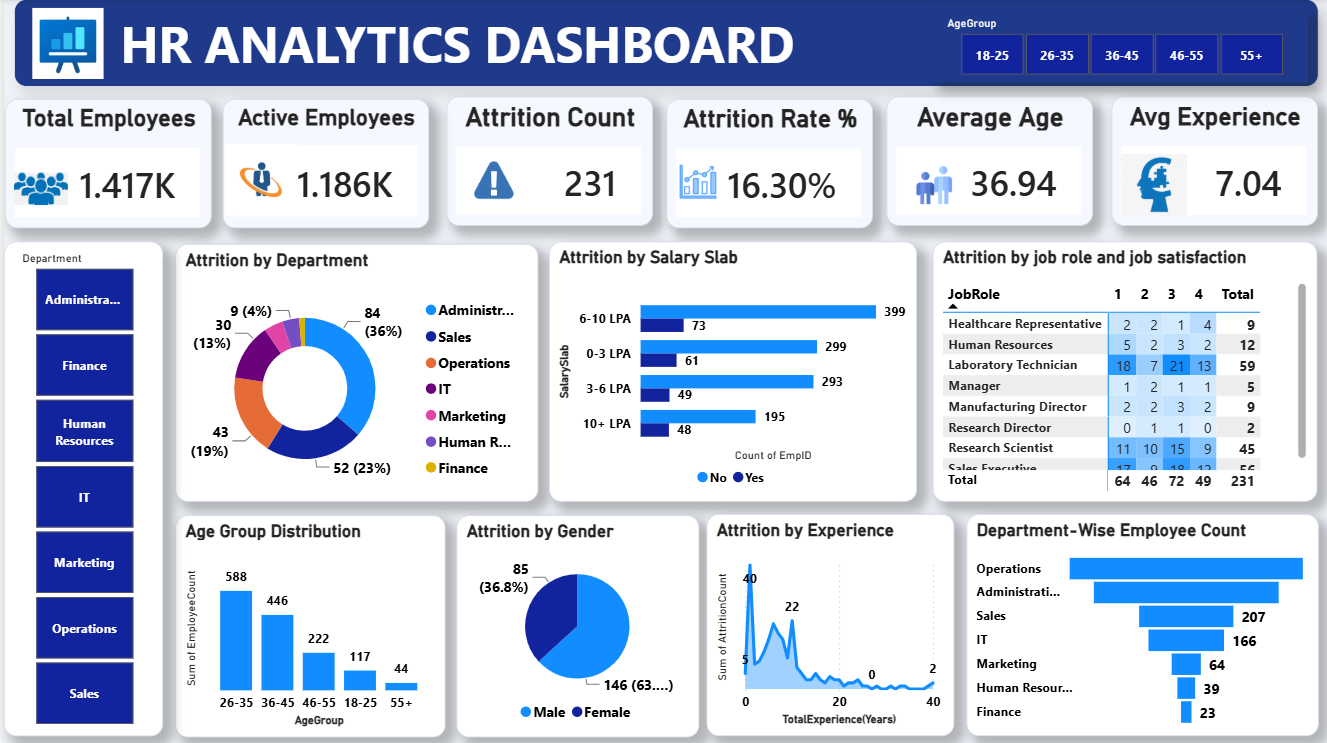

Layout of this report page (visuals, bound fields, positions):
{"tool":"powerbi","page":{"name":"Page 1","canvas":[1280,720],"ordinal":0},"visuals":[{"type":"textbox","box":[10,0,1259,85],"z":0},{"type":"image","box":[22,8.2,79.6,68.6],"z":1000},{"type":"cardVisual","title":"Total Employees","fields":{"Data":["CountNonNull(HR_Analytics-4.EmpID)"]},"box":[1.4,96.1,199,124.9],"z":2000},{"type":"cardVisual","title":"Attrition Count","fields":{"Data":["Sum(HR_Analytics-4.AttritionCount)"]},"box":[426.8,94.7,199,124.9],"z":3000},{"type":"cardVisual","title":"Attrition Rate %","fields":{"Data":["HR_Analytics-4.Attrition Rate %"]},"box":[639.5,96.1,199,124.9],"z":4000},{"type":"cardVisual","title":"Average Age","fields":{"Data":["Avg(HR_Analytics-4.Age)"]},"box":[852.1,94.7,199,124.9],"z":5000},{"type":"cardVisual","title":"Avg Experience","fields":{"Data":["Avg(HR_Analytics-4.YearsatCompany)"]},"box":[1069,94.7,199,124.9],"z":6000},{"type":"cardVisual","title":"Active Employees","fields":{"Data":["CountNonNull(HR_Analytics-4.EmployeeCount)"]},"box":[211.3,94.7,199,124.9],"z":7000},{"type":"image","box":[211.3,140,74.1,68.6],"z":8000},{"type":"image","box":[9.6,157.8,52.1,50.8],"z":9000},{"type":"image","box":[450.1,146.8,45.3,54.9],"z":10000},{"type":"image","box":[879.6,150.9,37,57.6],"z":11000},{"type":"image","box":[651.8,150.9,37,50.8],"z":12000},{"type":"image","box":[1069,149.6,82.3,59],"z":13000},{"type":"donutChart","title":"Attrition by Department","fields":{"Category":["HR_Analytics-4.Department"],"Y":["Sum(HR_Analytics-4.AttritionCount)"]},"box":[165.3,236.5,350,249],"z":14000},{"type":"clusteredBarChart","title":"Attrition by Salary Slab","fields":{"Category":["HR_Analytics-4.SalarySlab"],"Y":["CountNonNull(HR_Analytics-4.EmpID)"],"Series":["HR_Analytics-4.Attrition"]},"box":[526,234,355,251],"z":15000},{"type":"pivotTable","title":"Attrition by job role and job satisfaction","fields":{"Rows":["HR_Analytics-4.JobRole"],"Values":["Sum(HR_Analytics-4.AttritionCount)"],"Columns":["HR_Analytics-4.JobSatisfaction"]},"box":[896.4,234,371,251],"z":16000},{"type":"columnChart","title":"Age Group Distribution","fields":{"Category":["HR_Analytics-4.AgeGroup"],"Y":["Sum(HR_Analytics-4.EmployeeCount)"]},"box":[165.3,498.3,261,214],"z":17000},{"type":"pieChart","title":"Attrition by Gender","fields":{"Category":["HR_Analytics-4.Gender"],"Y":["Sum(HR_Analytics-4.AttritionCount)"]},"box":[436.7,498.3,234,214],"z":18000},{"type":"areaChart","title":"Attrition by Experience","fields":{"Category":["HR_Analytics-4.TotalExperience(Years)"],"Y":["Sum(HR_Analytics-4.AttritionCount)"]},"box":[678,497.1,239,214],"z":19000},{"type":"funnel","title":"Department-Wise Employee Count","fields":{"Category":["HR_Analytics-4.Department"],"Y":["CountNonNull(HR_Analytics-4.EmpID)"]},"box":[929,497.1,340,214],"z":20000},{"type":"slicer","fields":{"Values":["HR_Analytics-4.Department"]},"box":[0,234,153.2,477.8],"z":21000},{"type":"slicer","fields":{"Values":["HR_Analytics-4.AgeGroup"]},"box":[898,12,361,68],"z":22000}]}

Visuals, with their boxes in screenshot pixels (x1, y1, x2, y2), scaled from the page's 1280x720 canvas onto the 1327x743 screenshot:
textbox: (10,0,1316,88)
image: (23,8,105,79)
"Total Employees" cardVisual: (1,99,208,228)
"Attrition Count" cardVisual: (442,98,649,227)
"Attrition Rate %" cardVisual: (663,99,869,228)
"Average Age" cardVisual: (883,98,1090,227)
"Avg Experience" cardVisual: (1108,98,1315,227)
"Active Employees" cardVisual: (219,98,425,227)
image: (219,144,296,215)
image: (10,163,64,215)
image: (467,151,514,208)
image: (912,156,950,215)
image: (676,156,714,208)
image: (1108,154,1194,215)
"Attrition by Department" donutChart: (171,244,534,501)
"Attrition by Salary Slab" clusteredBarChart: (545,241,913,500)
"Attrition by job role and job satisfaction" pivotTable: (929,241,1314,500)
"Age Group Distribution" columnChart: (171,514,442,735)
"Attrition by Gender" pieChart: (453,514,695,735)
"Attrition by Experience" areaChart: (703,513,951,734)
"Department-Wise Employee Count" funnel: (963,513,1316,734)
slicer - HR_Analytics-4.Department: (0,241,159,735)
slicer - HR_Analytics-4.AgeGroup: (931,12,1305,83)
